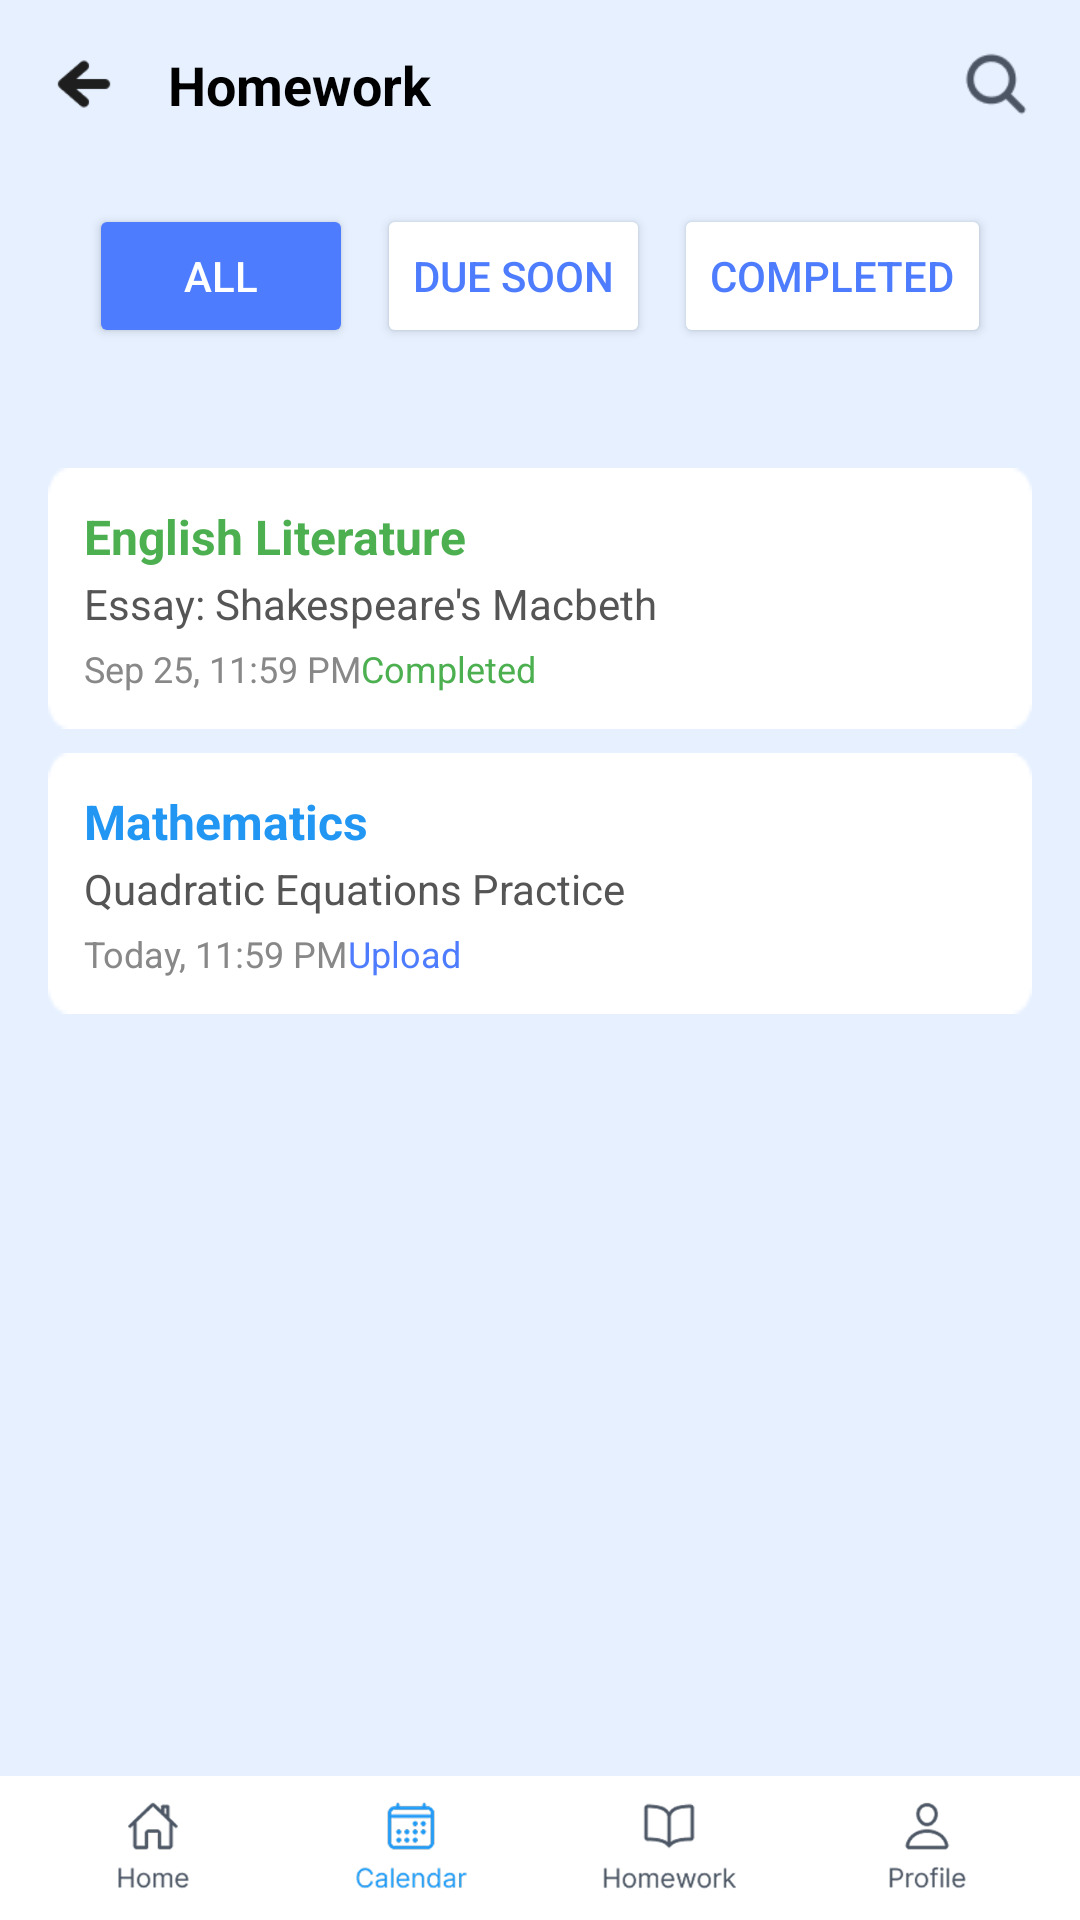

Screen size 1080 × 1920. Icon name, then its center in pixels as point (x, y):
Back: point (84, 84)
Search: point (996, 84)
